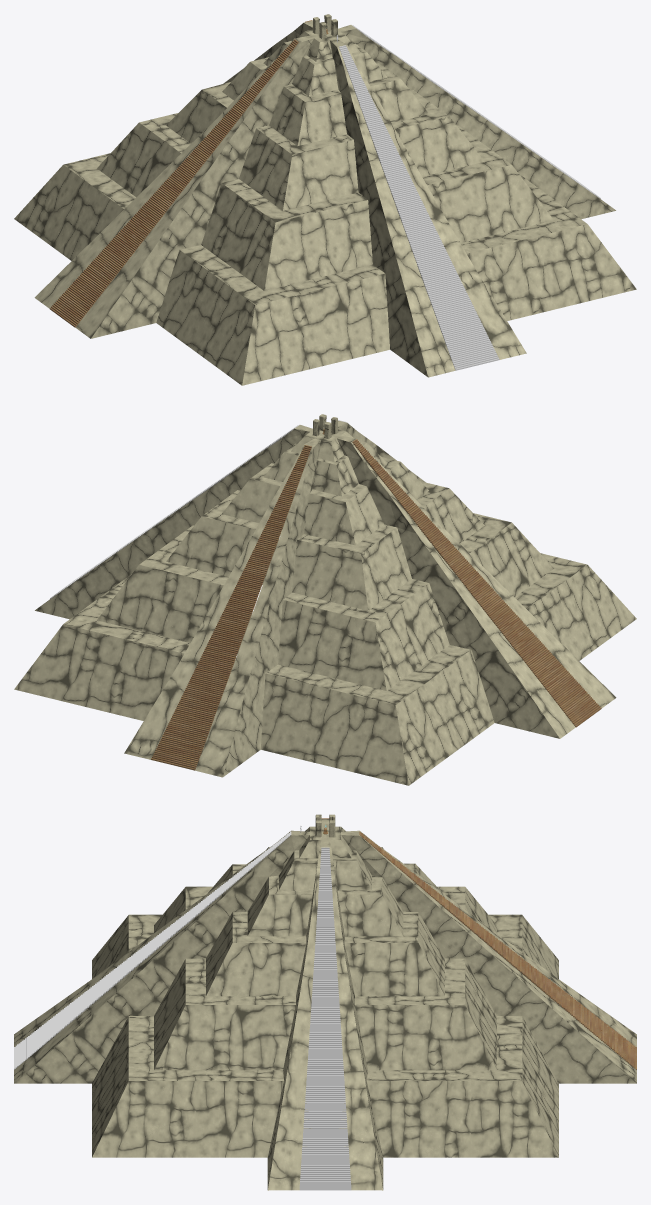
Rendered from temple4-4.fbx.
3 views of the same model, one above another, from view 1: azimuth 30°, elevation 25°; view 2: azimuth 150°, elevation 25°; view 3: azimuth 270°, elevation 25° (orthographic). The views are drawn at different scales.
Parts seen in each view (by area): view 1: Plane, Stairs, Stairs.004, Stairs.003; view 2: Plane, Stairs.001, Stairs.004, Stairs.003; view 3: Plane, Stairs.003, Stairs, Stairs.001.
Boxes of the visible parts, x1,y1,x2,y2 form: Plane: [14, 14, 636, 385]; Stairs: [339, 45, 499, 370]; Stairs.004: [49, 39, 298, 327]; Stairs.003: [352, 25, 600, 198]; Plane: [14, 414, 636, 785]; Stairs.001: [151, 445, 311, 770]; Stairs.004: [352, 439, 601, 727]; Stairs.003: [50, 425, 298, 598]; Plane: [14, 814, 636, 1190]; Stairs.003: [299, 847, 351, 1190]; Stairs: [14, 831, 291, 1069]; Stairs.001: [359, 831, 636, 1069].
Size of the model in its own units: 11990 by 5123 by 12004.
